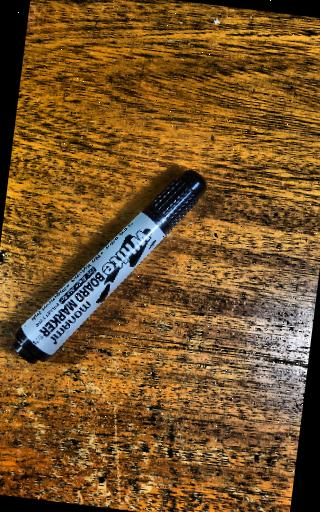marcador negro: (13, 169, 206, 363)
